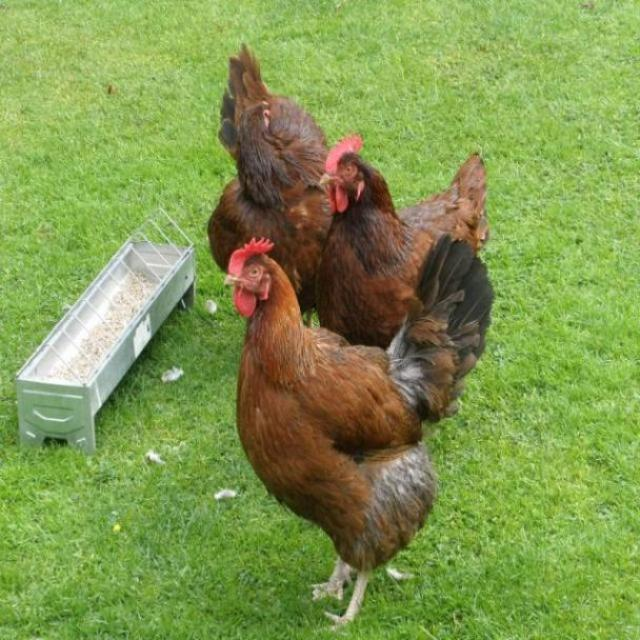Chicken: (225, 145, 486, 623), (316, 122, 496, 351), (206, 35, 333, 331)
